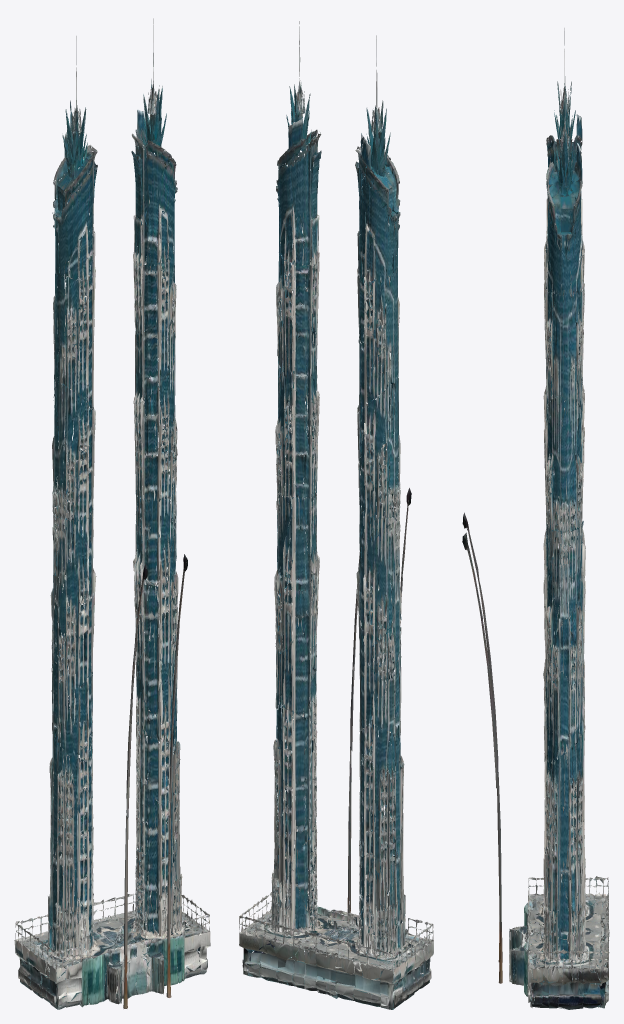
Rendered from jw-marriott-marquis.glb.
3 renders of one model, left to right at view 1: azimuth 30°, elevation 25°; view 2: azimuth 150°, elevation 25°; view 3: azimuth 270°, elevation 25°, orthographic.
Visible parts, largest first — view 1: Mesh_0; view 2: Mesh_0; view 3: Mesh_0.
Part boxes in pixels (x1,y1,x2,y2): Mesh_0: (14, 18, 210, 1009); Mesh_0: (239, 21, 433, 1009); Mesh_0: (462, 28, 609, 1009).
Bounding box in the file's own units: 60 × 355 × 50.
Materials: 1 (1 with a texture image).
